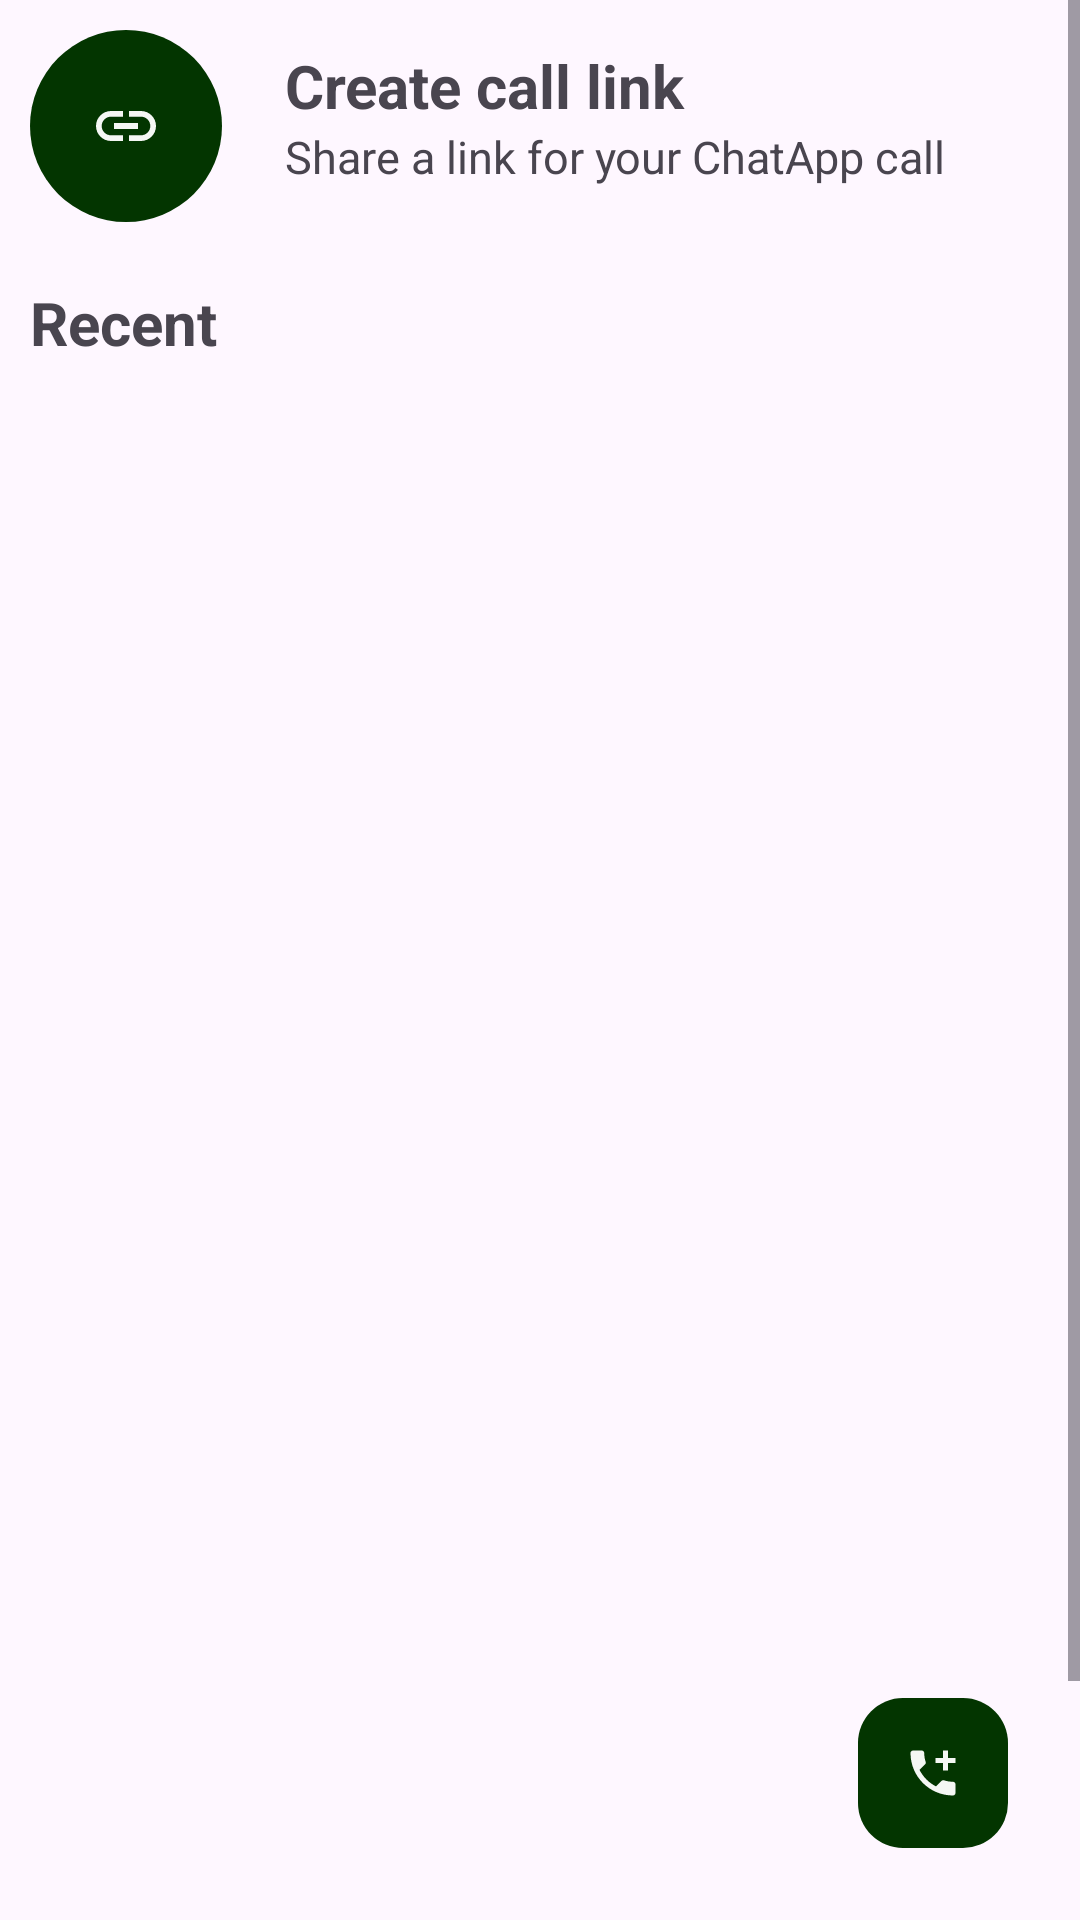

Icons on this 1080*1920 Android screen, each with its box as (x1, y1, x2, y2):
add call: (858, 1698, 1008, 1848)
